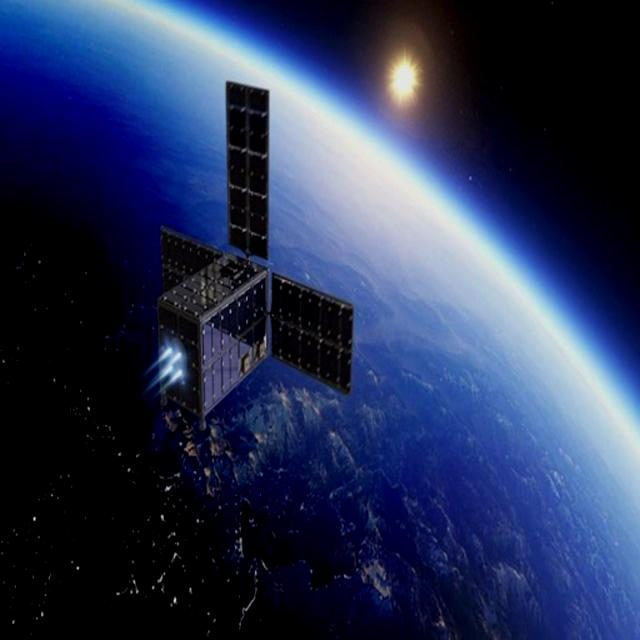medium_debris: (143, 80, 363, 472)
